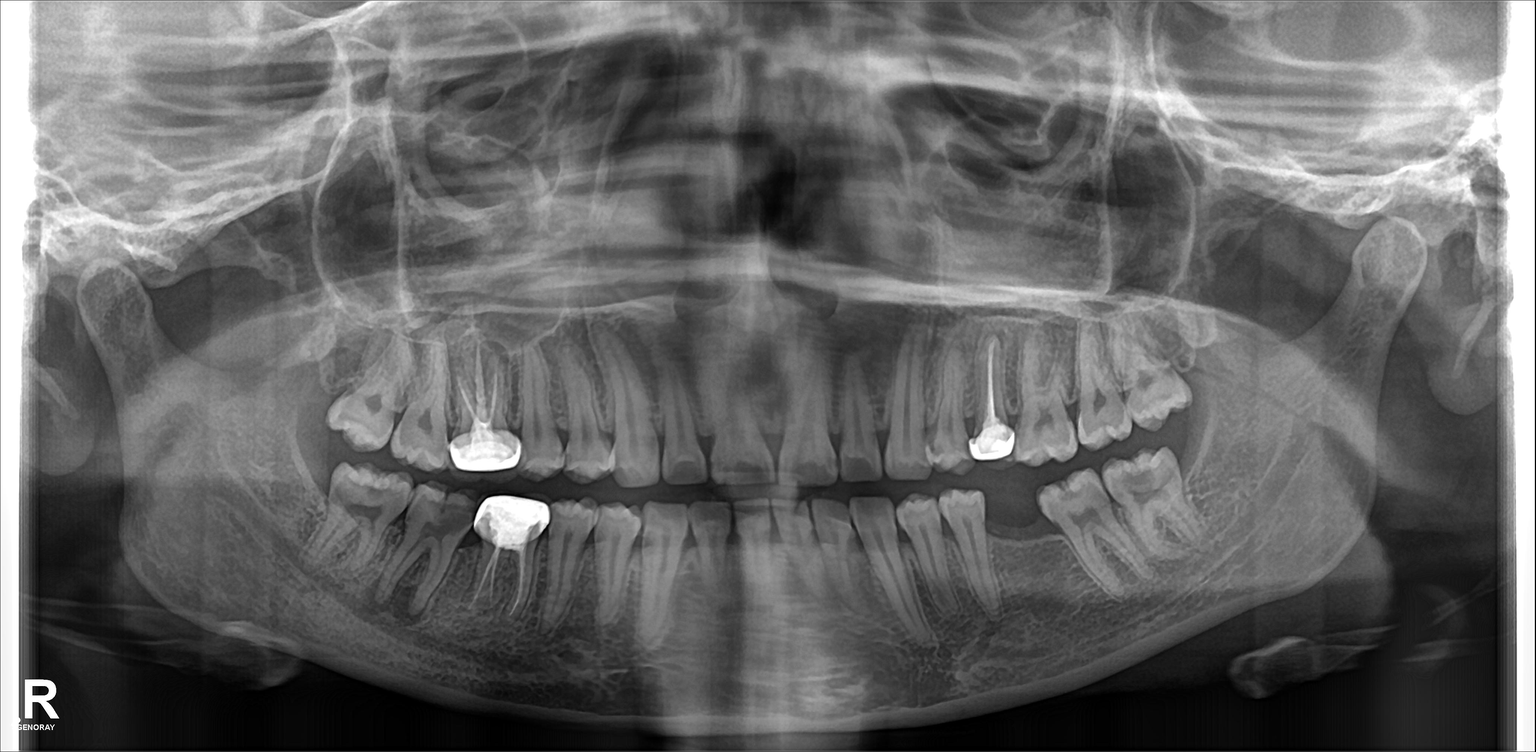Dental Caries: (417, 493, 474, 547), (339, 499, 386, 526), (844, 452, 876, 478)
Endodontically Treated Tooth: (447, 342, 515, 477), (480, 501, 544, 615), (974, 328, 1024, 463)
Missing Tooth: (994, 501, 1055, 626), (307, 320, 355, 439), (279, 430, 328, 526)
